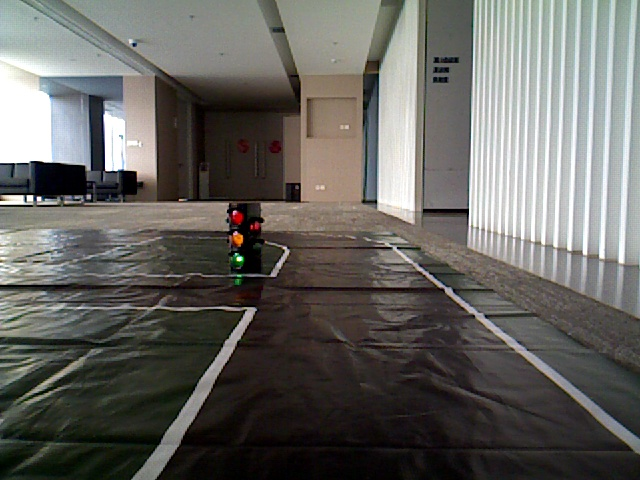green: (230, 205, 248, 267)
